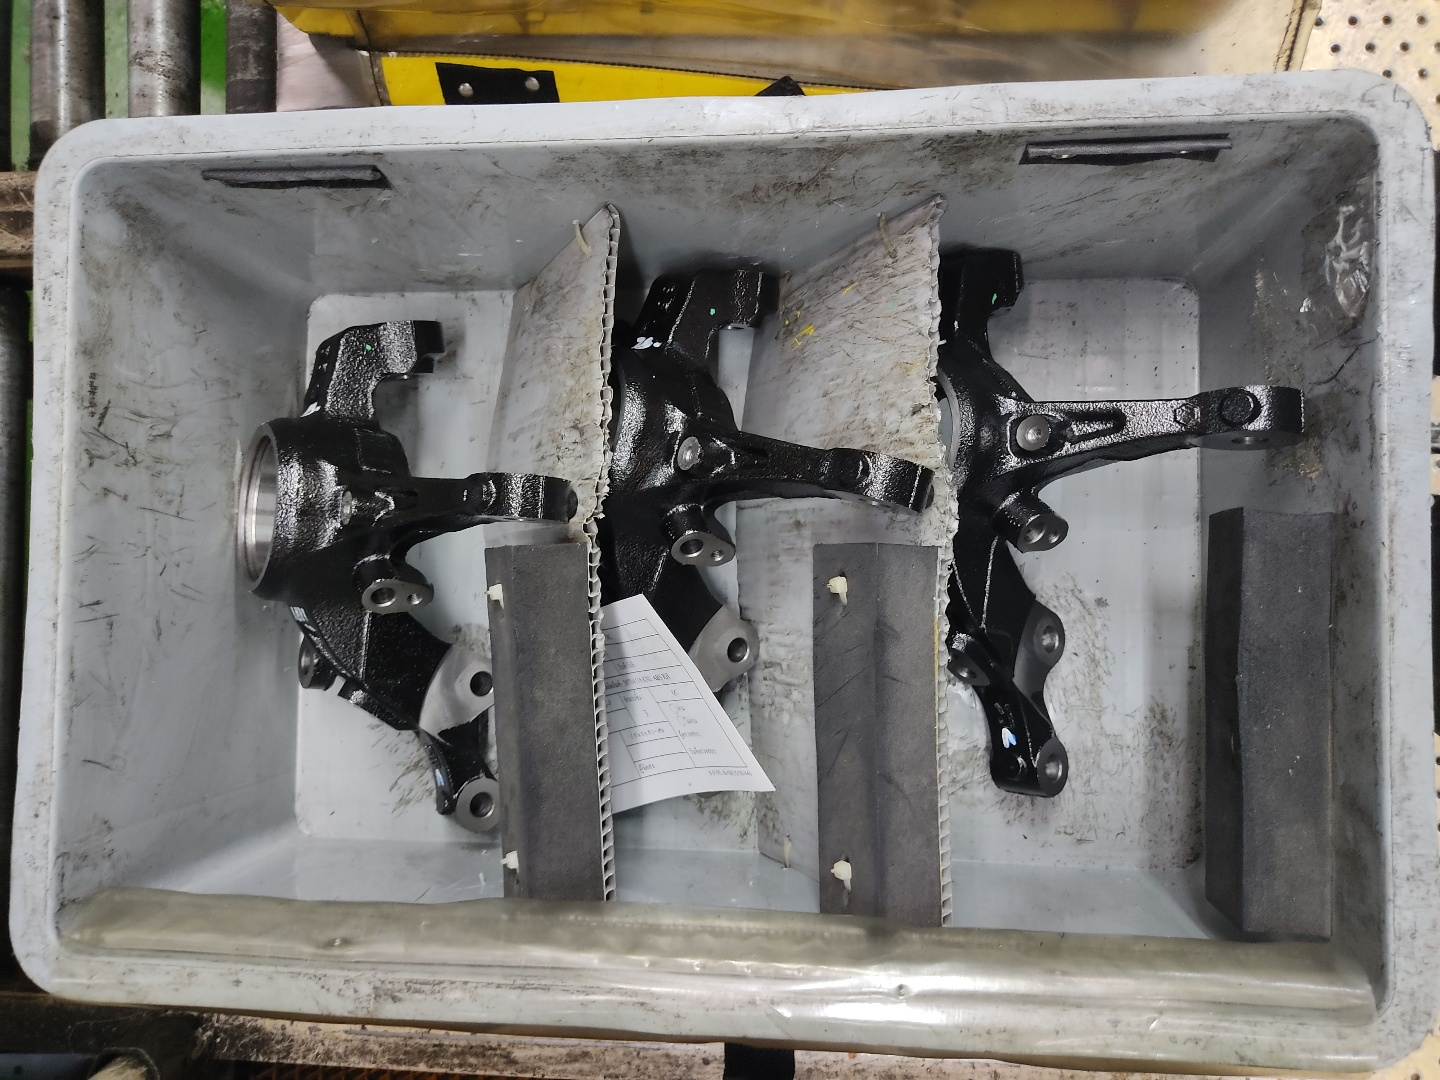abs-rh: (931, 225, 1311, 810), (582, 242, 935, 839), (219, 299, 575, 853)
